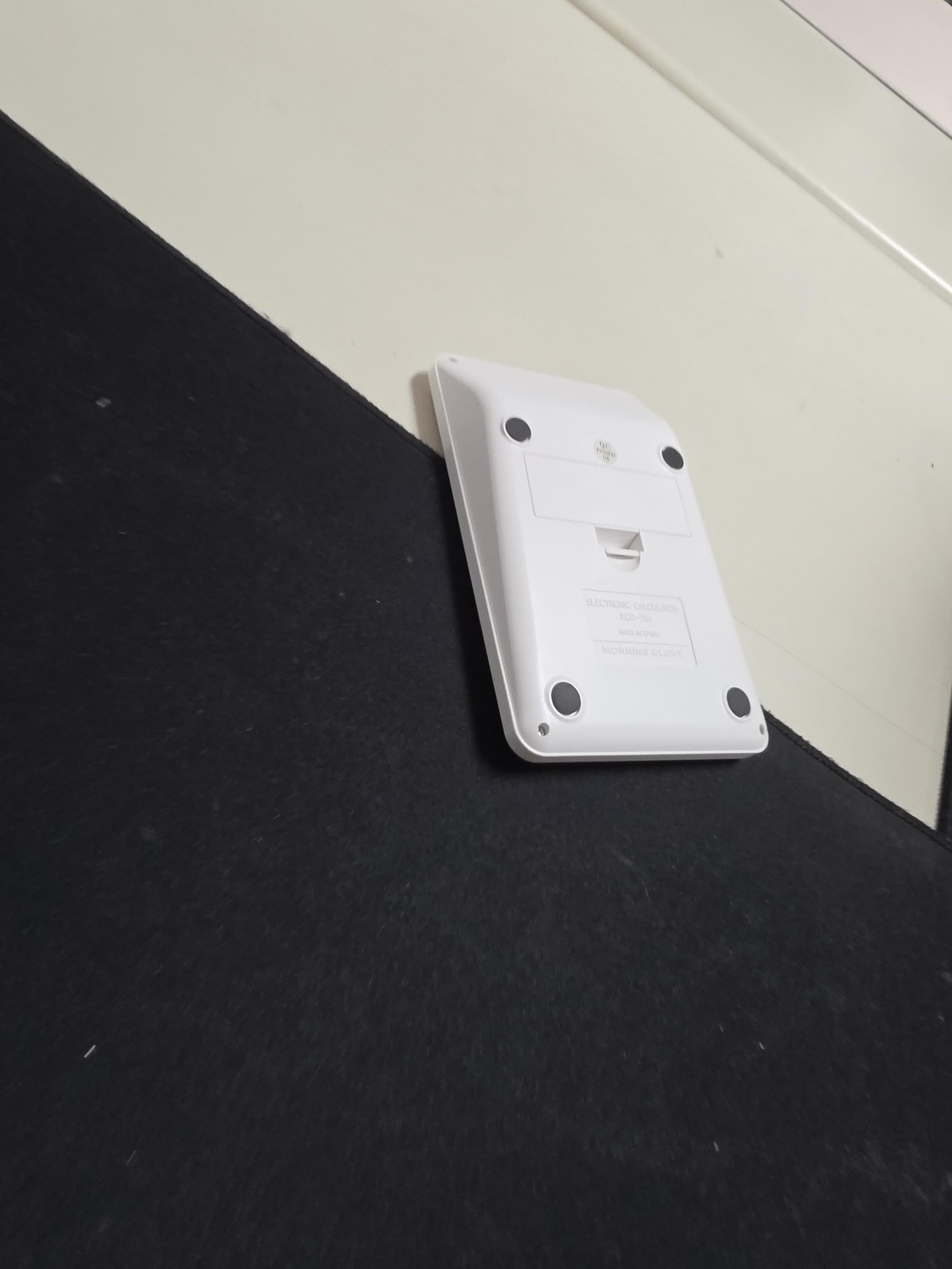calculator: (427, 353, 770, 765)
